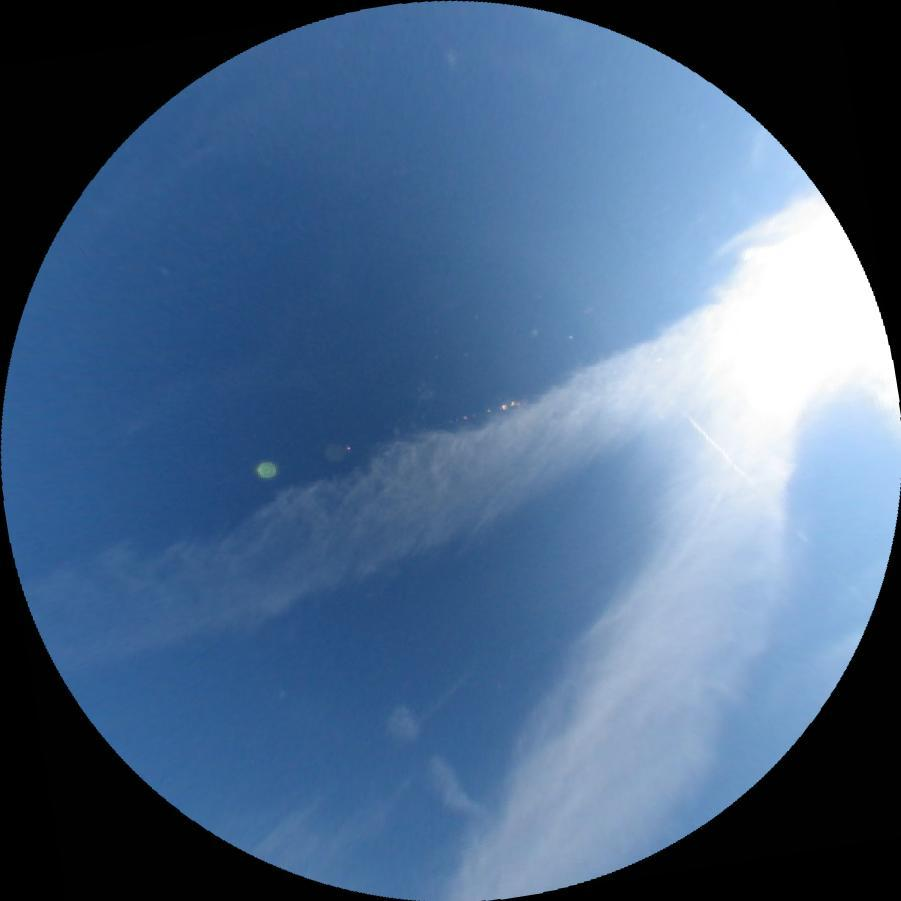contrail veryold: (25, 299, 761, 694), (377, 700, 495, 835)
contrail young: (687, 415, 757, 489)
unknow: (416, 668, 473, 722)
